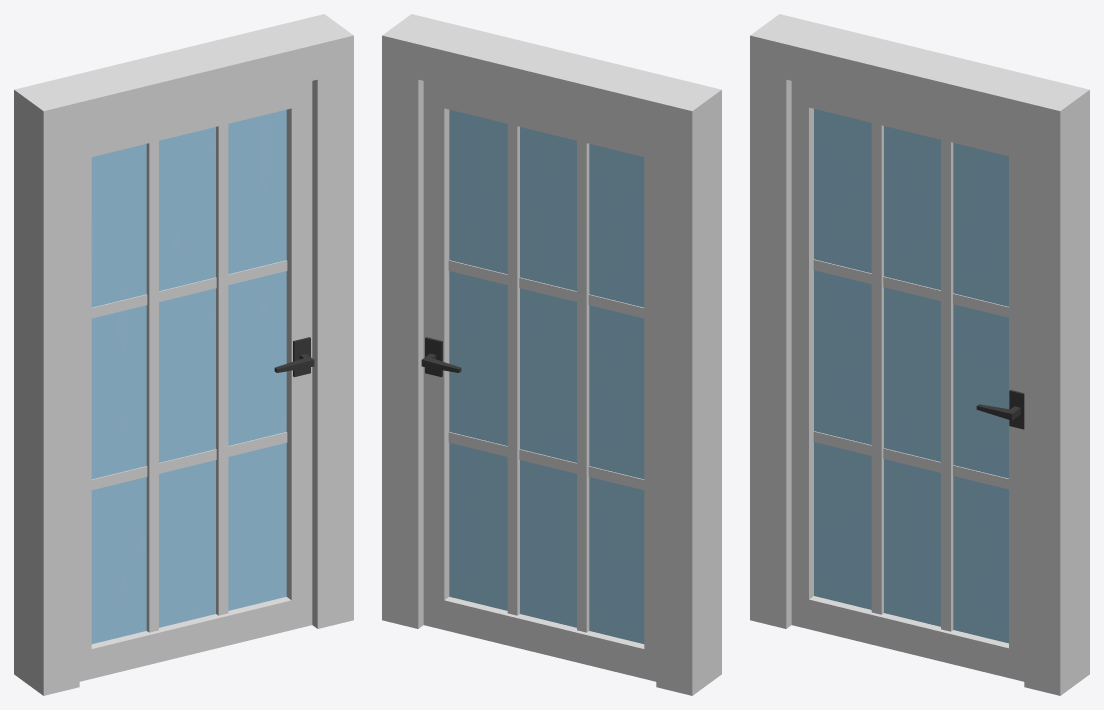
Rendered from Puerta.obj.
The picture shows the model from 3 angles, left to right: view 1: azimuth 30°, elevation 25°; view 2: azimuth 150°, elevation 25°; view 3: azimuth 330°, elevation 25°; orthographic projection.
Visible parts, largest first — view 1: door_001, door_frame_001; view 2: door_001, door_frame_001; view 3: door_001, door_frame_001.
Boxes of the visible parts, x1=… form: door_001: x1=79, y1=81, x2=314, y2=681; door_frame_001: x1=14, y1=14, x2=353, y2=695; door_001: x1=421, y1=81, x2=656, y2=681; door_frame_001: x1=382, y1=14, x2=721, y2=695; door_001: x1=791, y1=81, x2=1024, y2=681; door_frame_001: x1=750, y1=14, x2=1089, y2=695.
Size of the model in its own units: 1.34 by 2.41 by 0.286.
Materials: 1 (1 with a texture image).
